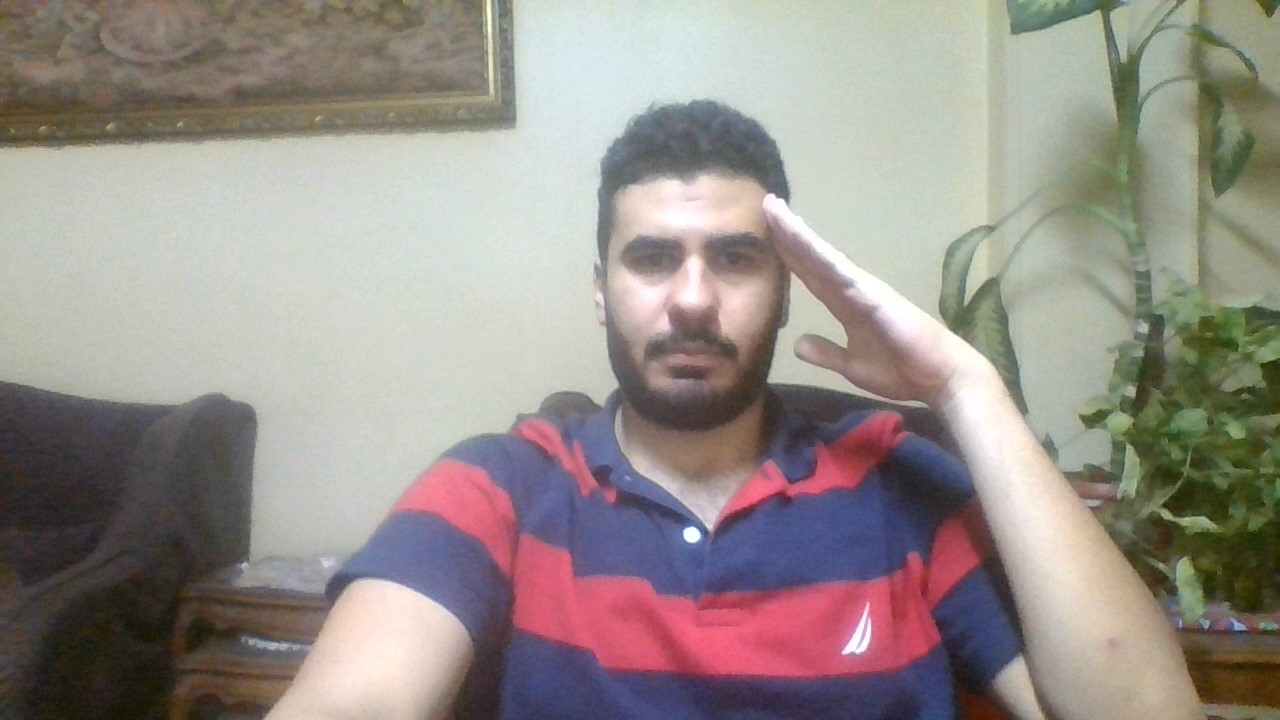hello: (752, 168, 970, 452)
